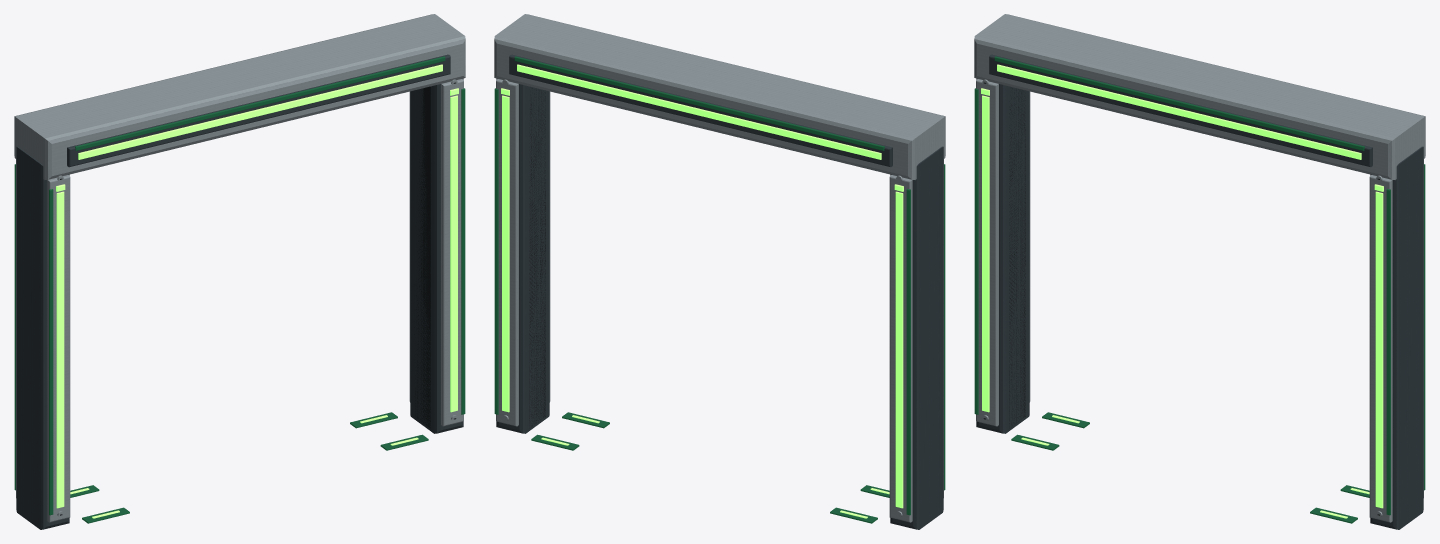
The model's file is genesis-green-airlock.glb.
The picture shows the model from 3 angles, left to right: view 1: azimuth 30°, elevation 25°; view 2: azimuth 150°, elevation 25°; view 3: azimuth 330°, elevation 25°; orthographic projection.
Parts seen in each view (by area): view 1: green-airlock__titanium, green-airlock__graphite, green-airlock__green, green-airlock__reflection, green-airlock__rubber; view 2: green-airlock__titanium, green-airlock__graphite, green-airlock__green, green-airlock__reflection, green-airlock__rubber; view 3: green-airlock__titanium, green-airlock__graphite, green-airlock__green, green-airlock__reflection, green-airlock__rubber.
Part boxes in pixels (left/top/right/bottom): green-airlock__titanium: left=14, top=14, right=465, bottom=522; green-airlock__graphite: left=16, top=54, right=463, bottom=529; green-airlock__green: left=56, top=64, right=458, bottom=518; green-airlock__reflection: left=14, top=56, right=465, bottom=523; green-airlock__rubber: left=60, top=82, right=456, bottom=515; green-airlock__titanium: left=494, top=14, right=945, bottom=522; green-airlock__graphite: left=496, top=54, right=943, bottom=529; green-airlock__green: left=501, top=64, right=903, bottom=518; green-airlock__reflection: left=494, top=56, right=945, bottom=523; green-airlock__rubber: left=529, top=88, right=545, bottom=428; green-airlock__titanium: left=974, top=14, right=1425, bottom=522; green-airlock__graphite: left=976, top=54, right=1423, bottom=529; green-airlock__green: left=981, top=64, right=1383, bottom=518; green-airlock__reflection: left=974, top=56, right=1425, bottom=523; green-airlock__rubber: left=983, top=82, right=1379, bottom=515.
Bounding box in the file's own units: 3.82 × 3.4 × 0.665.
5 materials, 3 textured.
